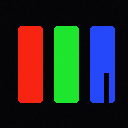4 line_v: (104, 73, 108, 103)
